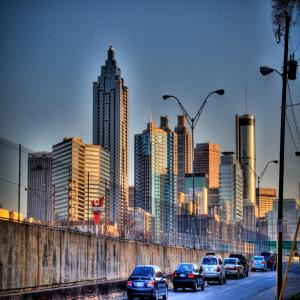Vehicle-registration-plate: (137, 282, 143, 288), (180, 274, 185, 278), (208, 268, 213, 272), (227, 272, 231, 276), (257, 261, 260, 265)
